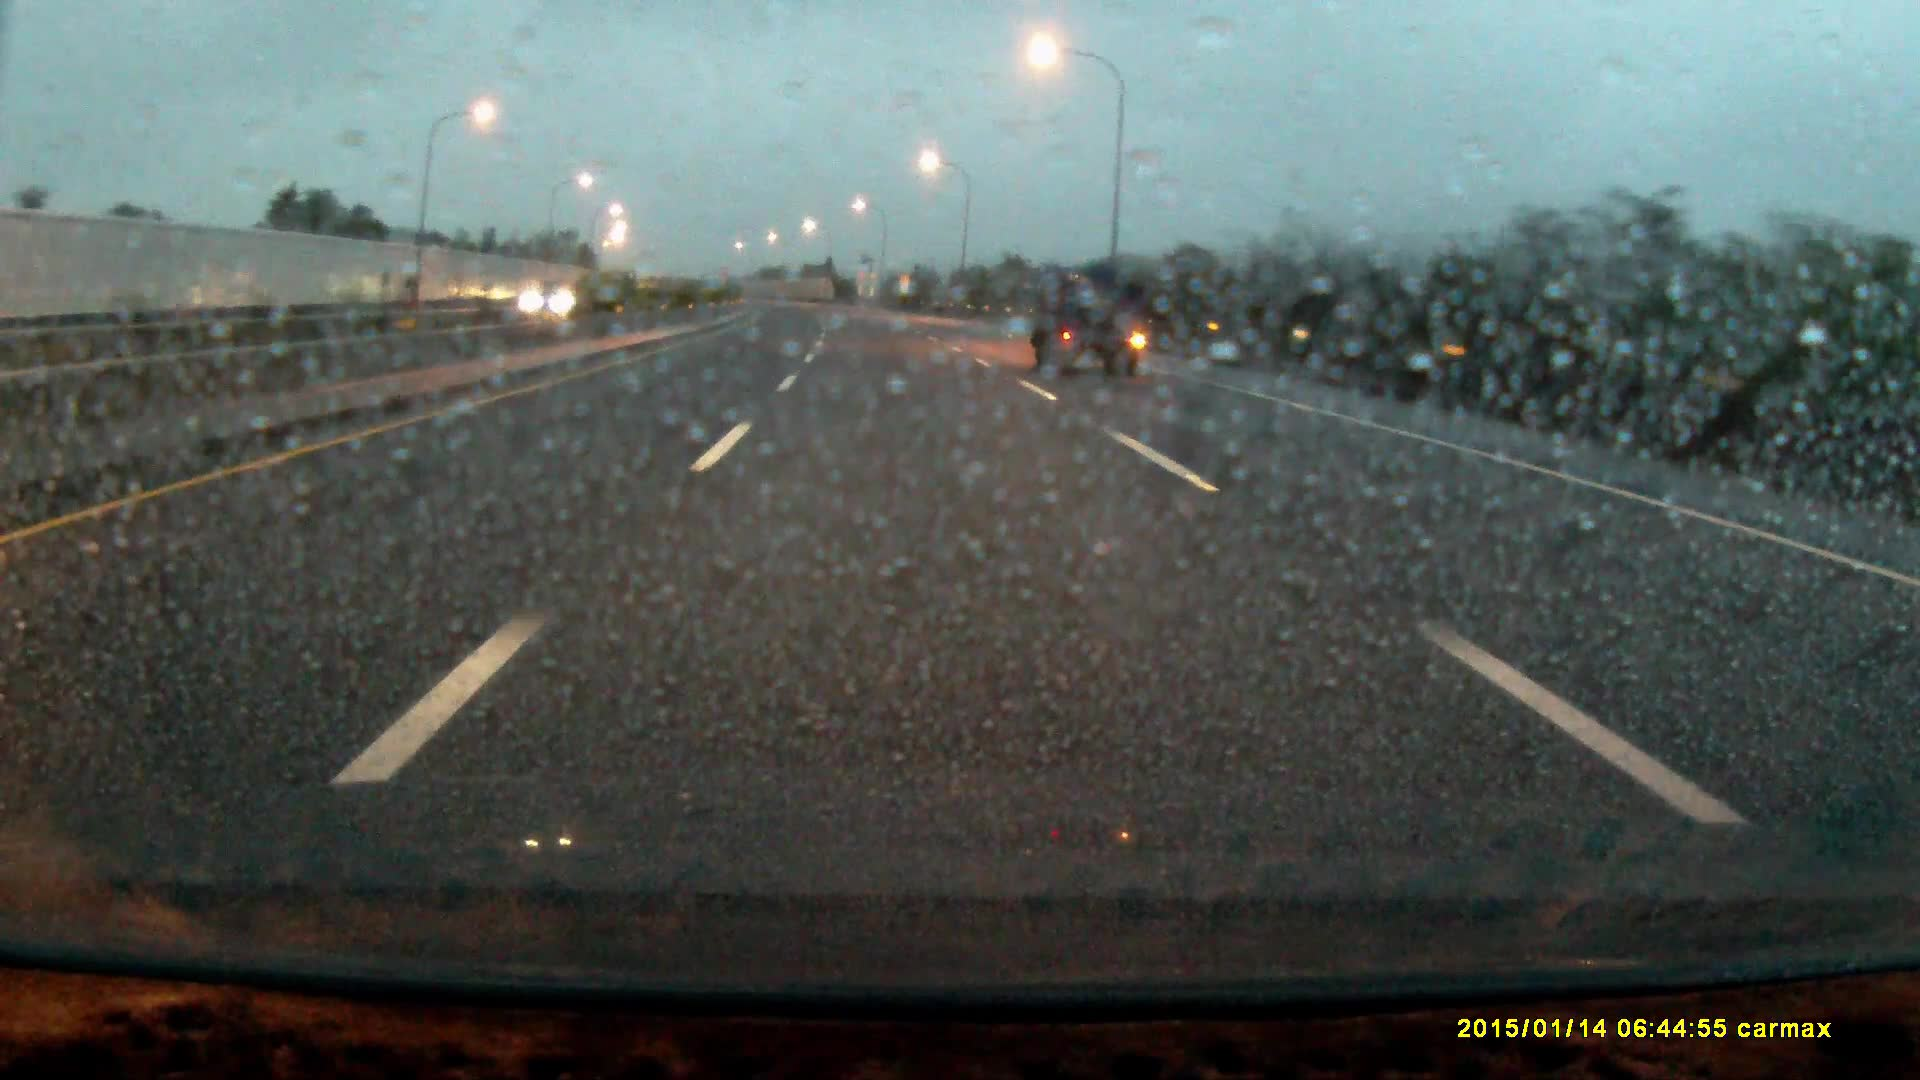vehicle: (1035, 272, 1143, 378), (527, 282, 584, 318)
